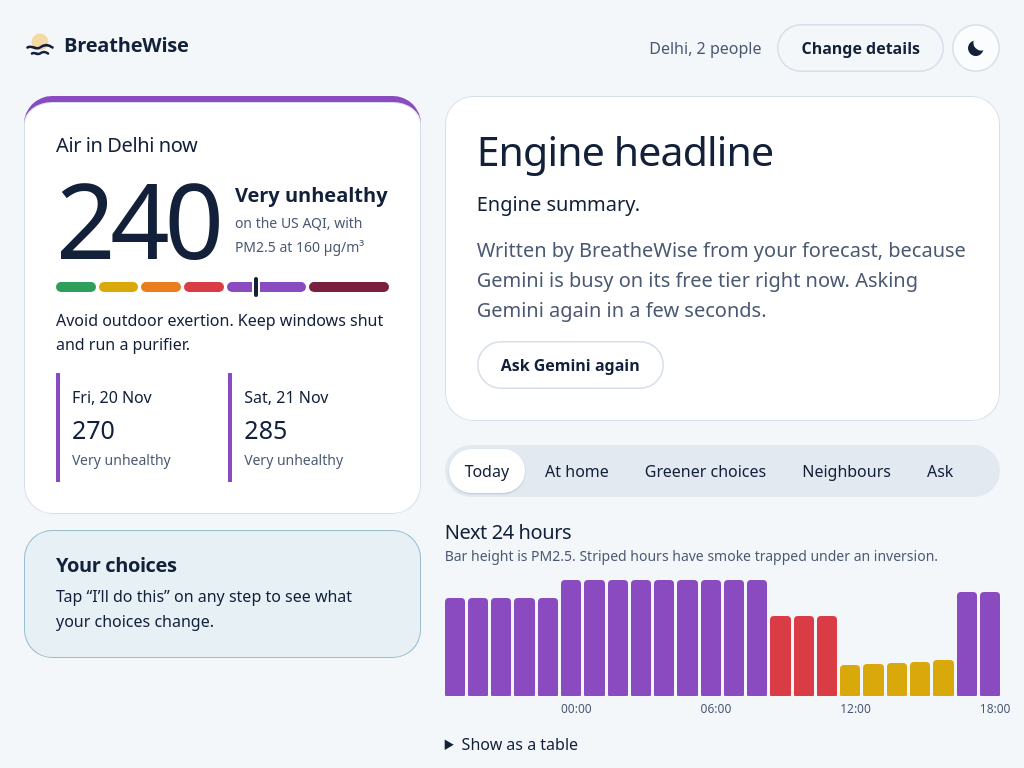
Test case: Dashboard with a saved family › says when a plan is for tomorrow and when nothing needs changing
Click the tab "Greener choices".
click(706, 471)  # box [629,449,782,493]
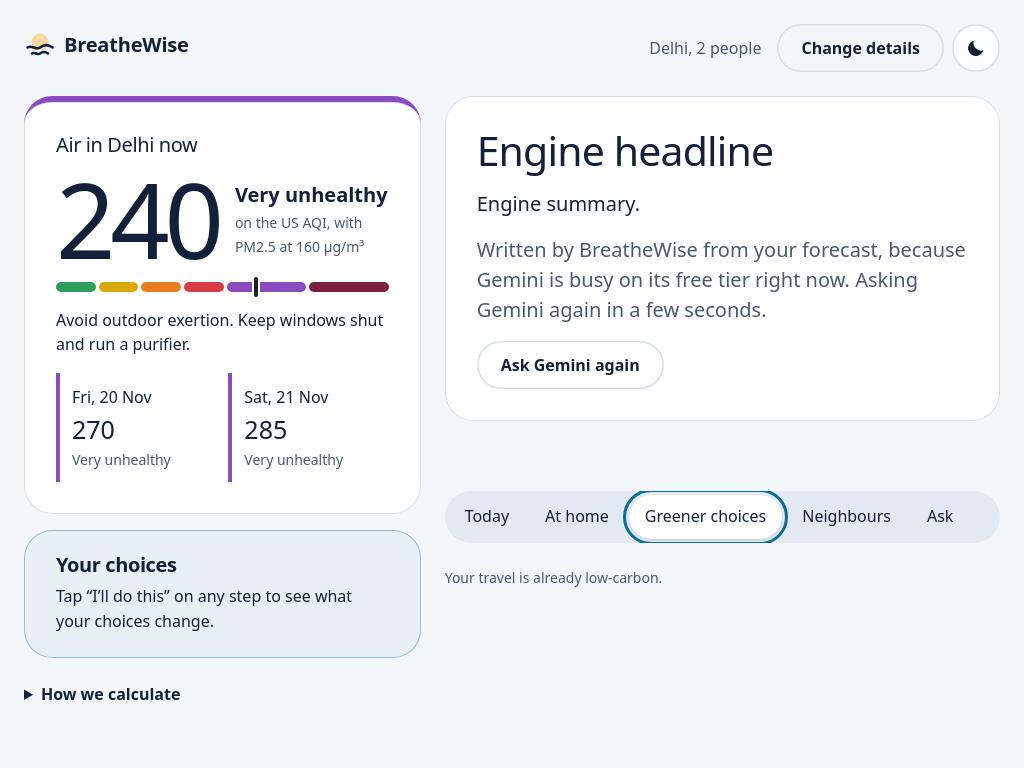
expect the text "Your travel is already low-carbon." is shown: met, box [445,568,662,587]
